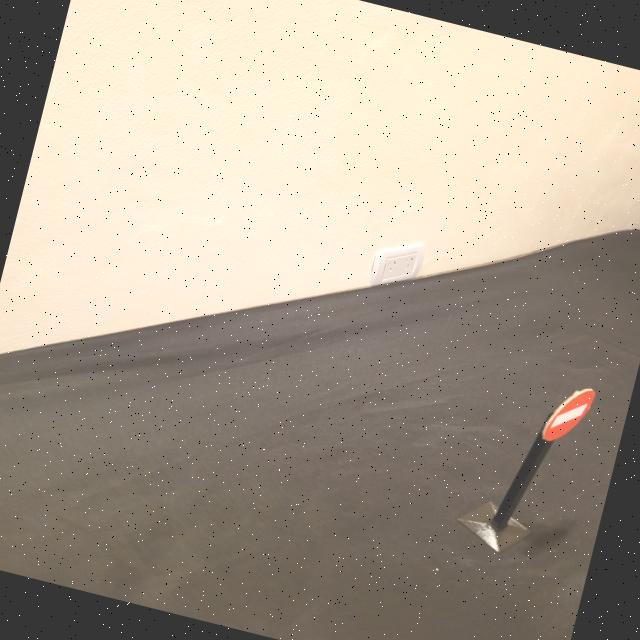no_entry: (539, 378, 600, 453)
